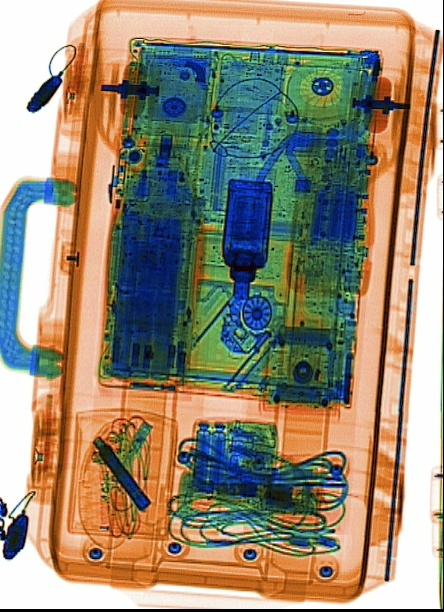powerbank: (102, 189, 204, 392)
